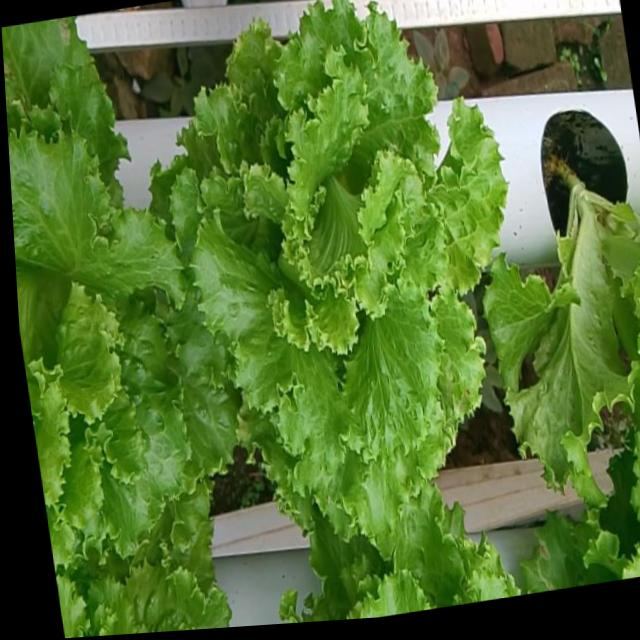Mature: (167, 0, 506, 538), (8, 119, 234, 554)
